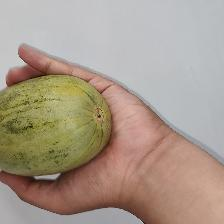gua: (5, 78, 97, 161)
